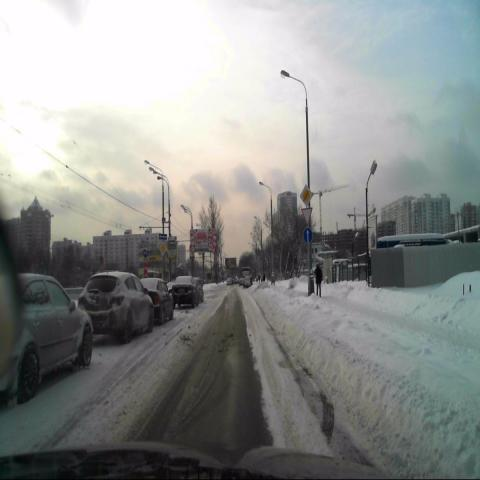2_2: (300, 183, 312, 207)
